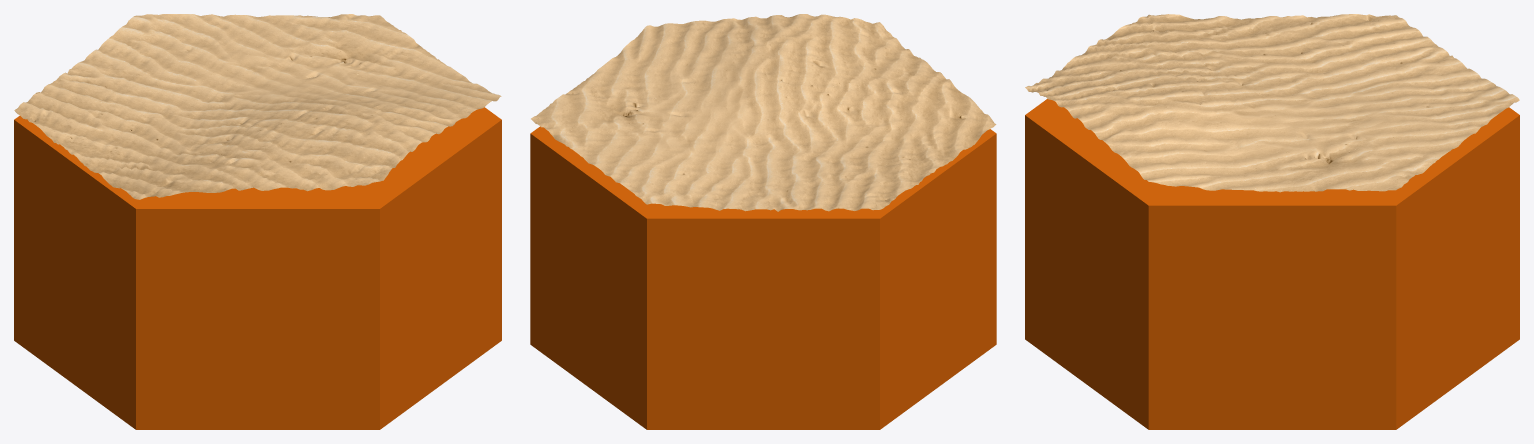
Rendered from Desert.fbx.
The picture shows the model from 3 angles, left to right: view 1: azimuth 30°, elevation 25°; view 2: azimuth 150°, elevation 25°; view 3: azimuth 270°, elevation 25°; orthographic projection. The views are drawn at different scales.
Visible parts, largest first — view 1: Desert2, Desert1; view 2: Desert2, Desert1; view 3: Desert2, Desert1.
Boxes of the visible parts, x1,y1,x2,y2 form: Desert2: (14,107,501,429); Desert1: (14,14,501,199); Desert2: (530,126,996,429); Desert1: (531,14,996,211); Desert2: (1025,99,1519,429); Desert1: (1025,14,1519,192).
Bounding box in the file's own units: 173 × 200 × 117.
